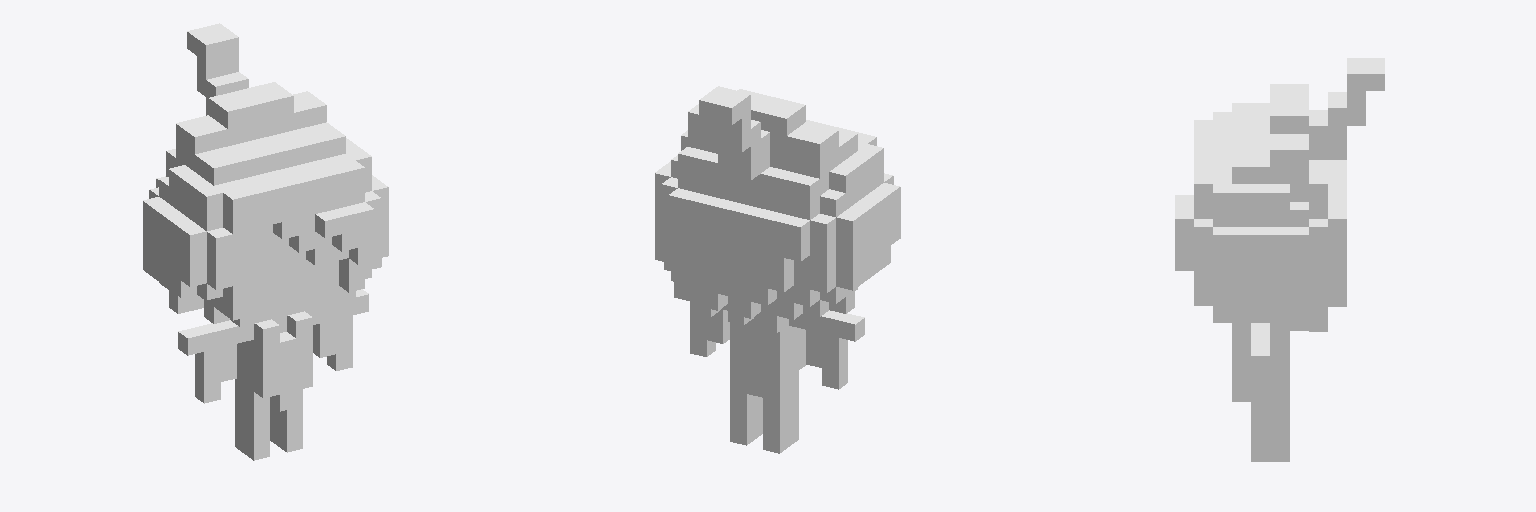
Rendered from MENEL_MEN.obj.
The picture shows the model from 3 angles: view 1: azimuth 30°, elevation 25°; view 2: azimuth 150°, elevation 25°; view 3: azimuth 270°, elevation 25°; orthographic projection.
Parts seen in each view (by area): view 1: MODEL_MEN; view 2: MODEL_MEN; view 3: MODEL_MEN.
Boxes of the visible parts, x1=… form: MODEL_MEN: x1=143, y1=23, x2=388, y2=460; MODEL_MEN: x1=655, y1=86, x2=900, y2=453; MODEL_MEN: x1=1175, y1=58, x2=1384, y2=461.
Bounding box in the file's own units: 12 × 22 × 11.